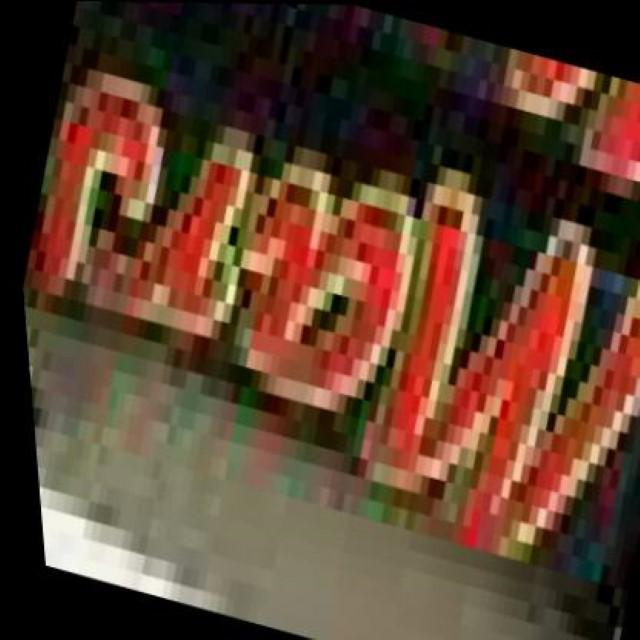mars_chocolate: (38, 40, 640, 600)
